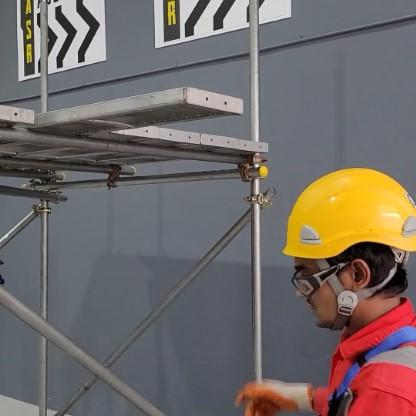helmet: (276, 155, 415, 345)
